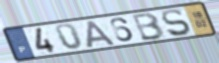0: (55, 23, 84, 51)
4: (34, 26, 57, 54)
6: (109, 17, 135, 43)
A: (86, 19, 118, 49)
B: (131, 11, 166, 42)
S: (161, 8, 193, 38)
